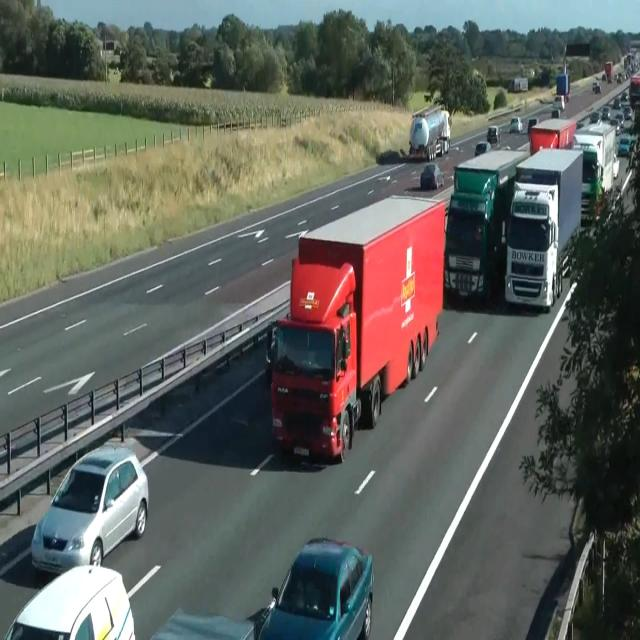bus: (256, 536, 374, 639), (5, 564, 136, 639), (149, 606, 257, 639), (420, 163, 444, 190), (616, 134, 636, 156), (486, 125, 501, 143), (475, 142, 491, 156), (510, 116, 522, 134), (528, 118, 538, 134), (592, 81, 600, 93), (552, 108, 560, 118)
jeep: (30, 443, 149, 575)
minibus: (266, 193, 447, 463), (444, 148, 530, 304), (505, 147, 583, 312), (572, 121, 620, 223), (409, 104, 451, 161), (528, 117, 576, 155), (629, 70, 639, 107), (556, 73, 570, 99), (508, 78, 528, 92), (604, 61, 614, 82)
